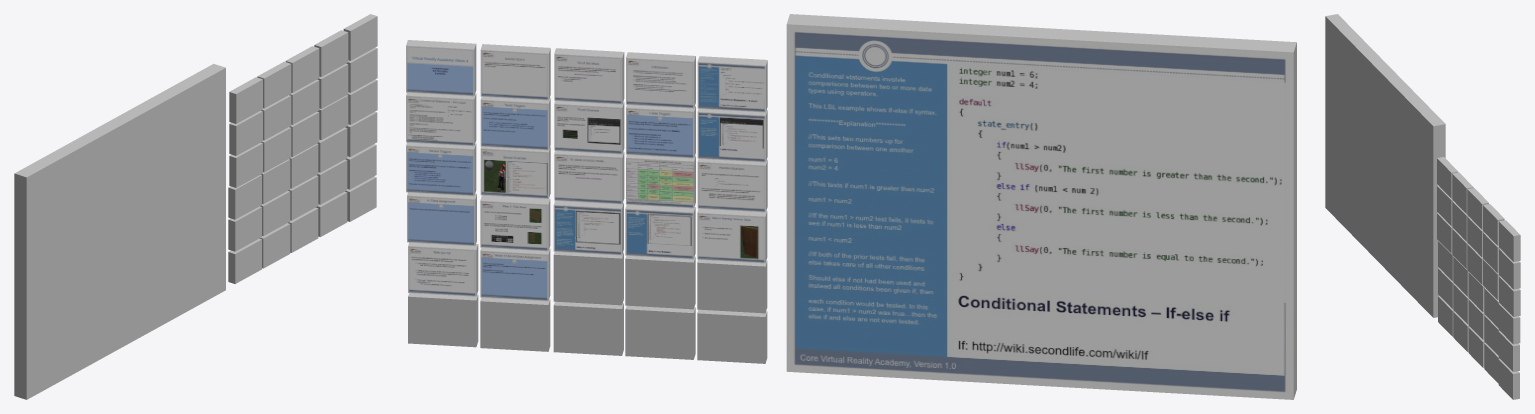
Rendered from VRA_Lecture4_V1_142-098-023__b2c8c602-115f-49e6-ae51-12aa84d90cbe.dae.
3 renders of one model, left to right at view 1: azimuth 30°, elevation 25°; view 2: azimuth 150°, elevation 25°; view 3: azimuth 270°, elevation 25°, orthographic. The views are drawn at different scales.
Parts seen in each view (by area): view 1: VRA_Lecture4_V1, Slideshow (×30); view 2: VRA_Lecture4_V1, Slideshow (×30); view 3: VRA_Lecture4_V1, Slideshow (×30).
Boxes of the visible parts, left/top/right/bottom form: VRA_Lecture4_V1: left=14, top=63, right=225, bottom=399; Slideshow (×30): left=228, top=14, right=377, bottom=283; VRA_Lecture4_V1: left=786, top=14, right=1296, bottom=399; Slideshow (×30): left=406, top=40, right=767, bottom=363; VRA_Lecture4_V1: left=1325, top=14, right=1445, bottom=317; Slideshow (×30): left=1437, top=157, right=1520, bottom=399.
Bounding box in the file's own units: 7.46 × 3.15 × 3.41.
